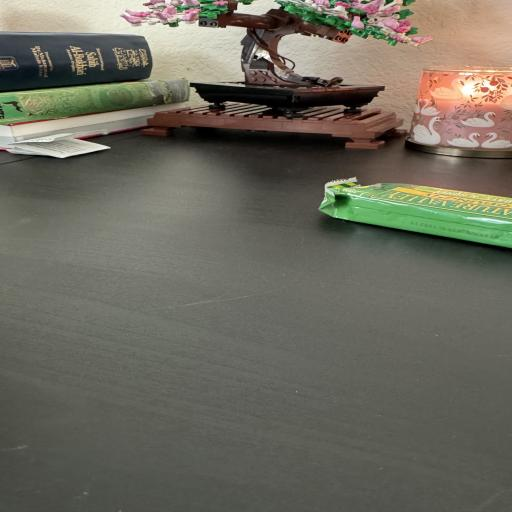granola: (319, 178, 511, 247)
